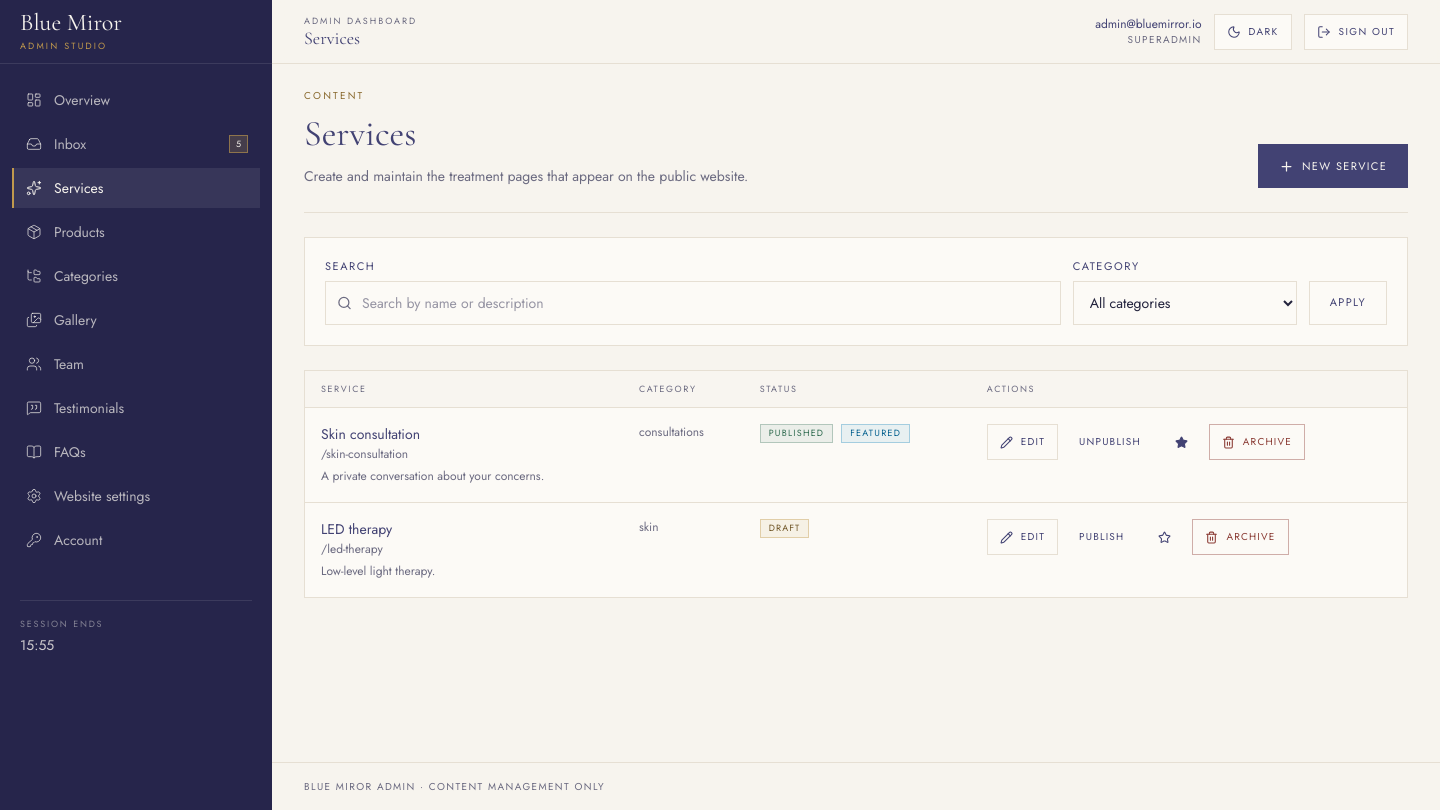
admin content management › archives a service only after confirmation
The width and height of the screenshot is (1440, 810).
Expected: the text "Skin consultation" is shown, [321,424,420,444]
Step 1. Click the button "Archive" in the row of "Skin consultation" → [1257, 442], box [1209,424,1305,460]
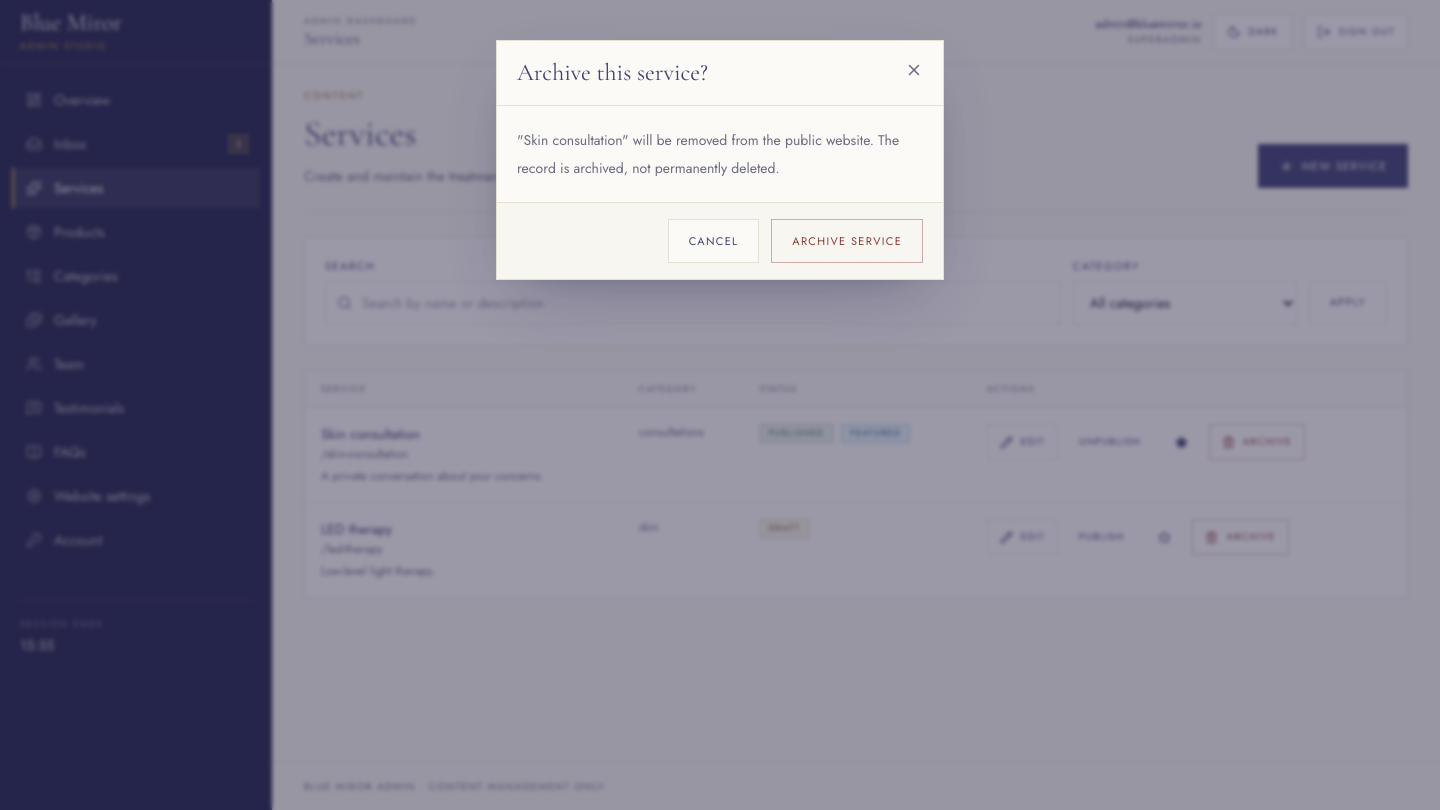
Now the heading "Archive this service?" is shown, box [517,57,708,89]
Step 2. Click the button "Archive service" → [847, 241], box [771,219,923,263]
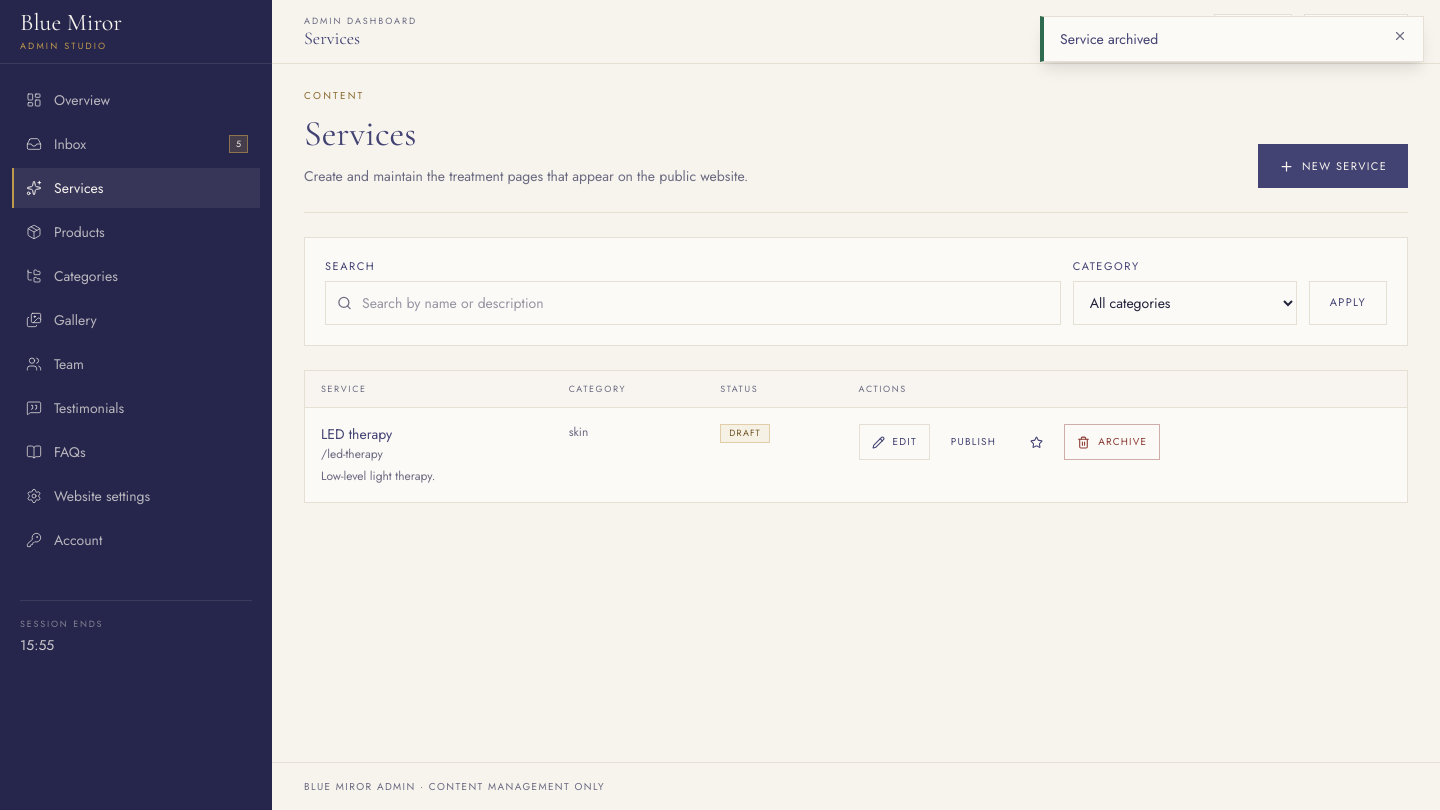
Now the text "Skin consultation" is gone
Now the text "Service archived" is shown, box [1060,29,1158,49]
